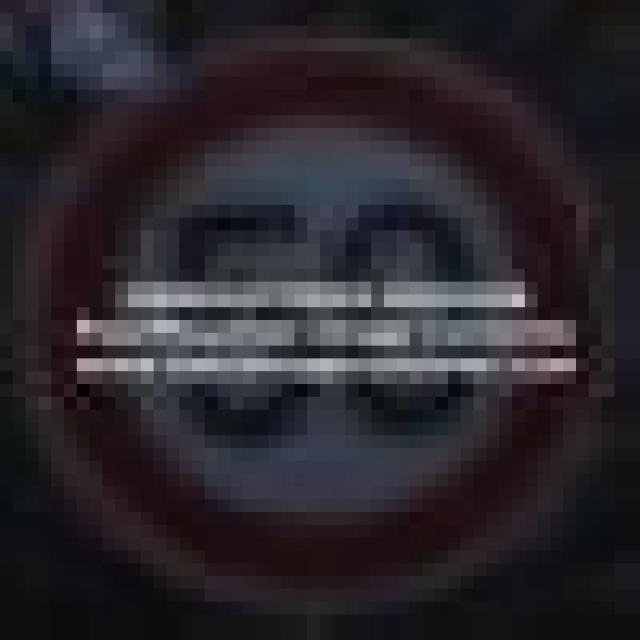speed_limit_30: (26, 38, 588, 576)
